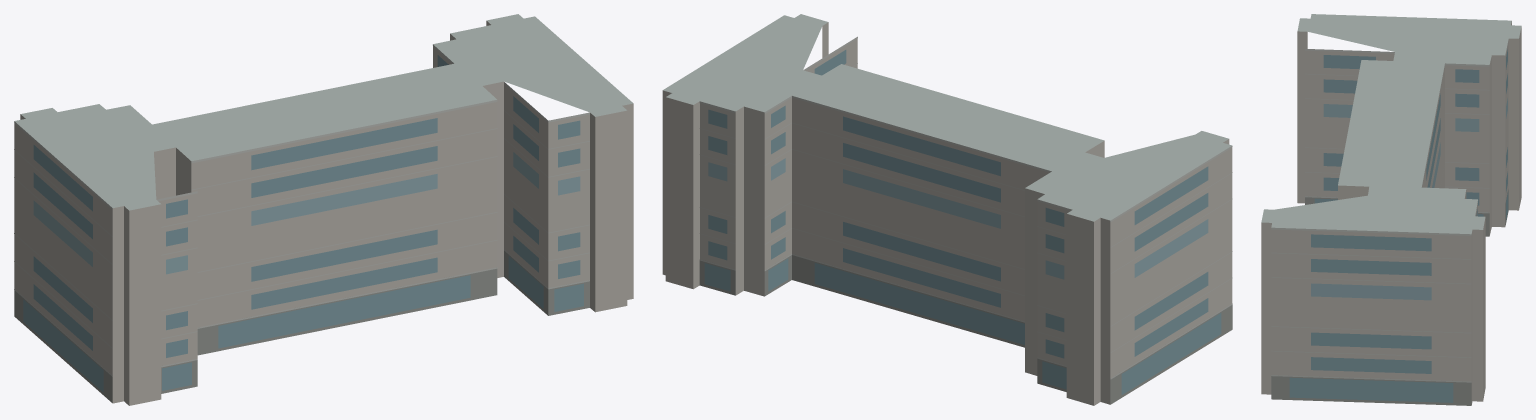
Rendered from survey-upis-32762526.glb.
3 views of the same model, side by side, from view 1: azimuth 30°, elevation 25°; view 2: azimuth 150°, elevation 25°; view 3: azimuth 270°, elevation 25° (orthographic). The views are drawn at different scales.
Parts seen in each view (by area): view 1: survey-upis-32762526.tmp; view 2: survey-upis-32762526.tmp; view 3: survey-upis-32762526.tmp.
Boxes of the visible parts, <box> form: survey-upis-32762526.tmp: <box>14,14,633,405</box>; survey-upis-32762526.tmp: <box>662,14,1232,405</box>; survey-upis-32762526.tmp: <box>1261,14,1521,405</box>.
Bounding box in the file's own units: 63.54 × 23.1 × 31.74.
